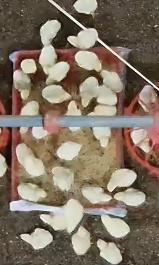chick: (96, 237, 124, 264), (63, 198, 84, 233), (19, 228, 54, 249), (107, 168, 137, 192), (19, 99, 40, 133), (130, 122, 152, 154), (102, 213, 131, 237), (113, 187, 148, 206), (98, 68, 124, 93), (16, 182, 48, 202), (13, 70, 35, 99), (63, 100, 82, 133), (39, 19, 62, 46), (74, 50, 102, 72), (39, 210, 67, 232), (72, 226, 93, 255), (68, 28, 98, 48), (45, 60, 70, 84), (80, 185, 113, 203), (79, 75, 98, 106), (41, 84, 72, 103), (38, 45, 57, 74), (52, 166, 74, 191), (14, 142, 35, 166), (92, 122, 112, 147), (137, 84, 156, 110), (56, 141, 82, 160), (95, 84, 117, 105), (24, 155, 45, 176), (86, 104, 118, 116), (18, 57, 38, 75), (30, 126, 48, 138)
rice: (8, 48, 129, 218), (123, 81, 159, 180)
